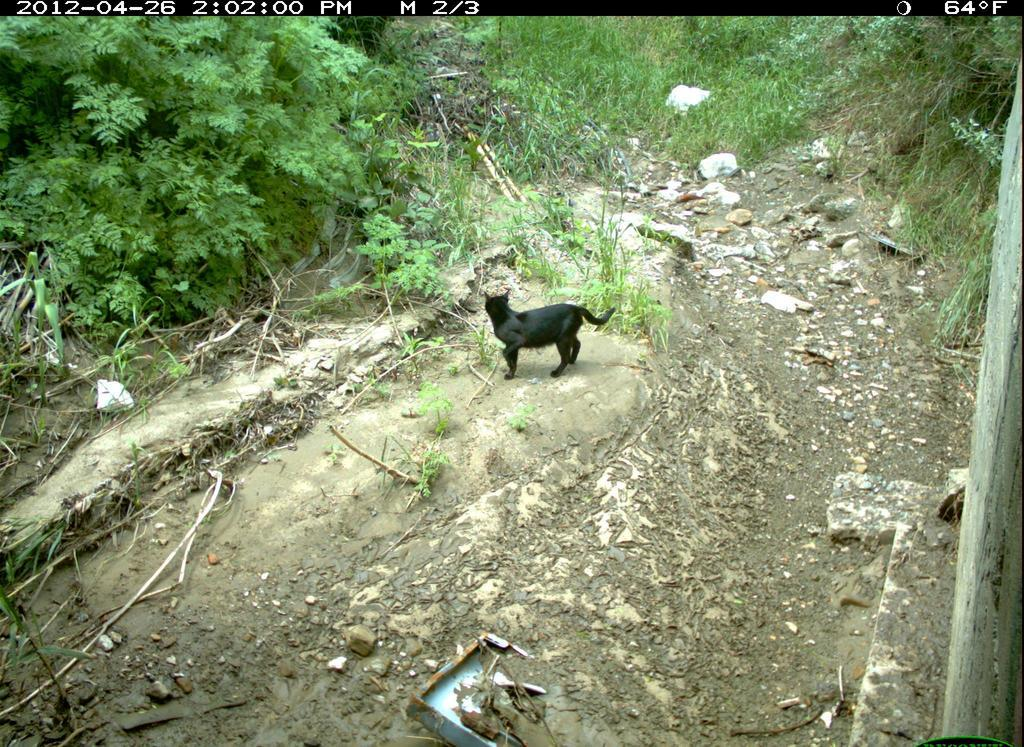cat: (479, 286, 620, 383)
